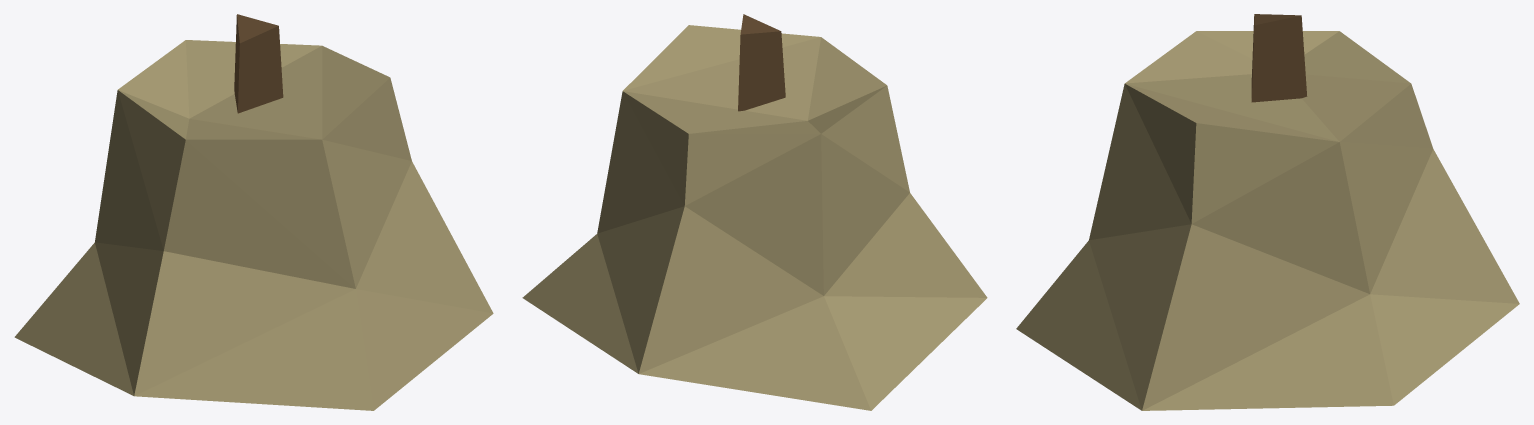
The model's file is candle_02.fbx.
3 views of the same model, side by side, from view 1: azimuth 30°, elevation 25°; view 2: azimuth 150°, elevation 25°; view 3: azimuth 270°, elevation 25° (orthographic). The views are drawn at different scales.
Visible parts, largest first — view 1: candle_02; view 2: candle_02; view 3: candle_02.
Part boxes in pixels (bbox=[...]): candle_02: bbox=[14, 14, 493, 410]; candle_02: bbox=[522, 14, 987, 410]; candle_02: bbox=[1016, 14, 1519, 410].
Size of the model in its own units: 0.8255 by 0.6844 by 0.9532.
